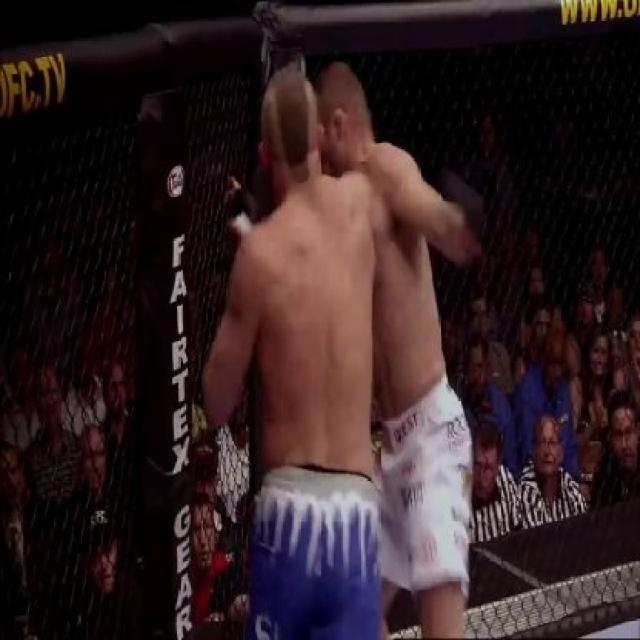fight: (142, 32, 520, 638)
